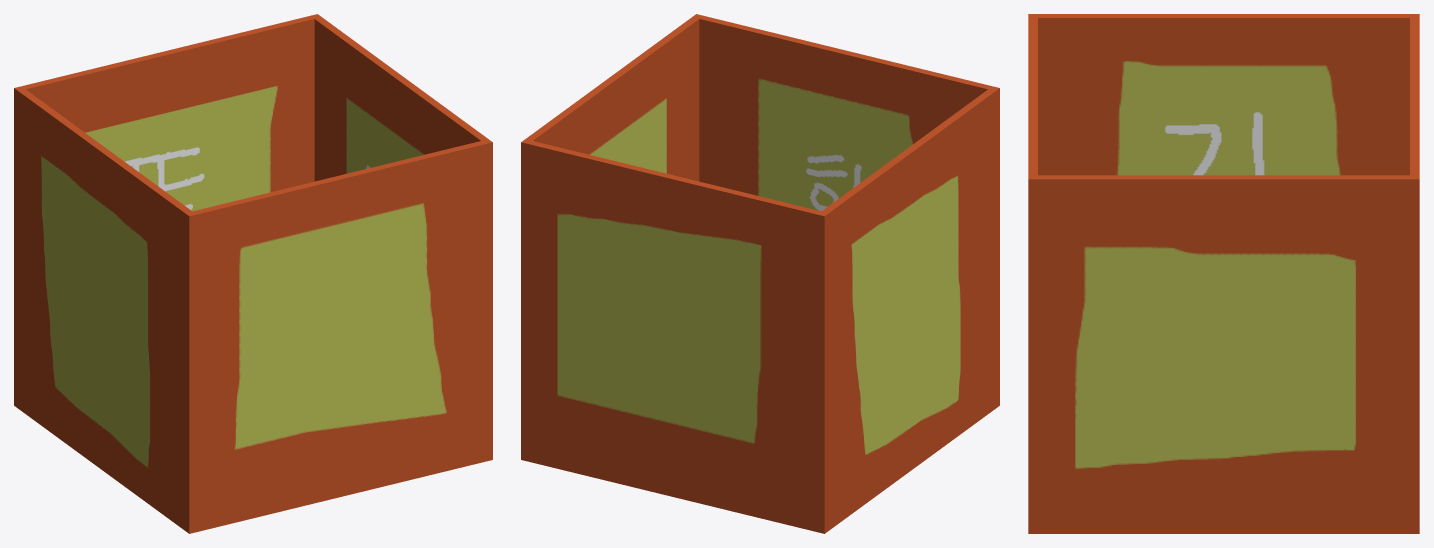
File: map2.fbx
The picture shows the model from 3 angles, left to right: view 1: azimuth 30°, elevation 25°; view 2: azimuth 150°, elevation 25°; view 3: azimuth 270°, elevation 25°; orthographic projection. The views are drawn at different scales.
Parts seen in each view (by area): view 1: Cube; view 2: Cube; view 3: Cube.
Part boxes in pixels (x1,y1,x2,y2): Cube: (14,14,492,533); Cube: (521,14,999,533); Cube: (1028,14,1419,533).
Size of the model in its own units: 3509 by 3509 by 3509.
Materials: 1 (1 with a texture image).
